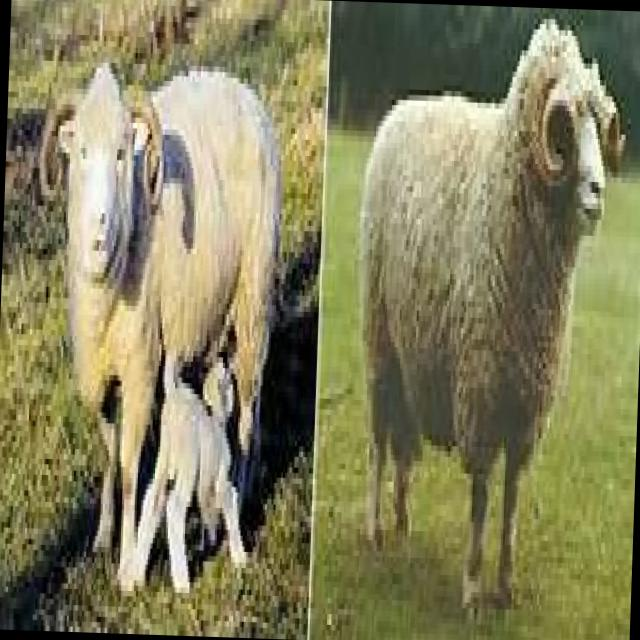sheep: (346, 12, 630, 614), (25, 55, 284, 562)
